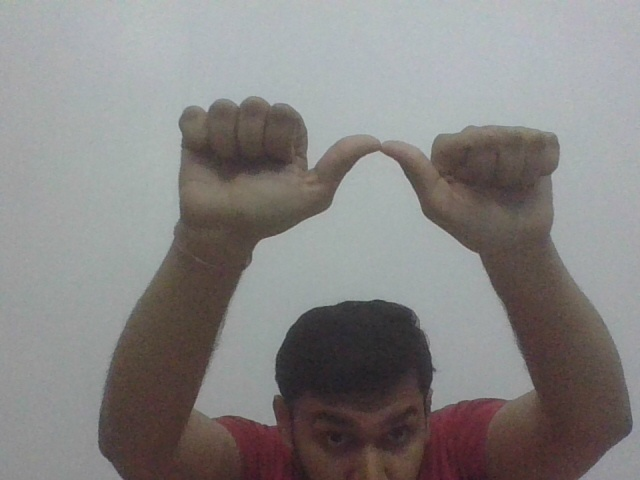A: (173, 93, 565, 248)
